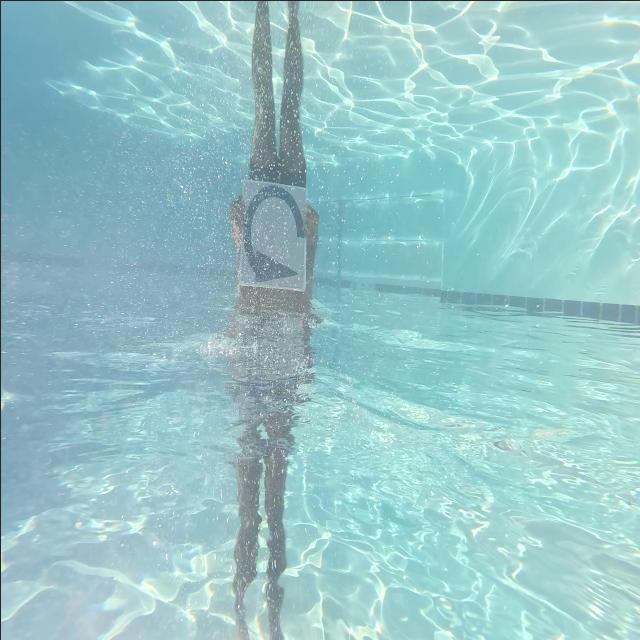blue_side: (236, 182, 303, 296)
